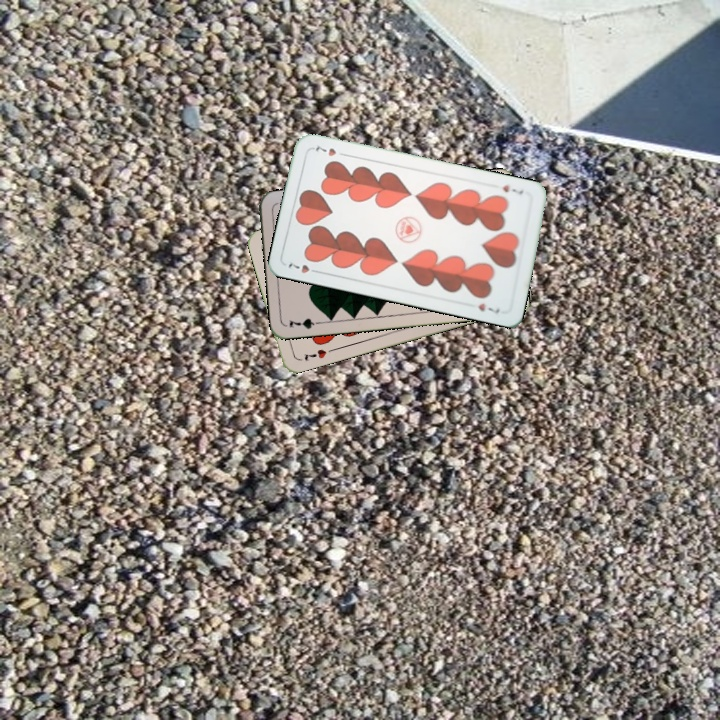G7: (285, 314, 325, 331)
H7: (284, 259, 323, 276), (300, 345, 329, 364), (499, 181, 526, 197)
